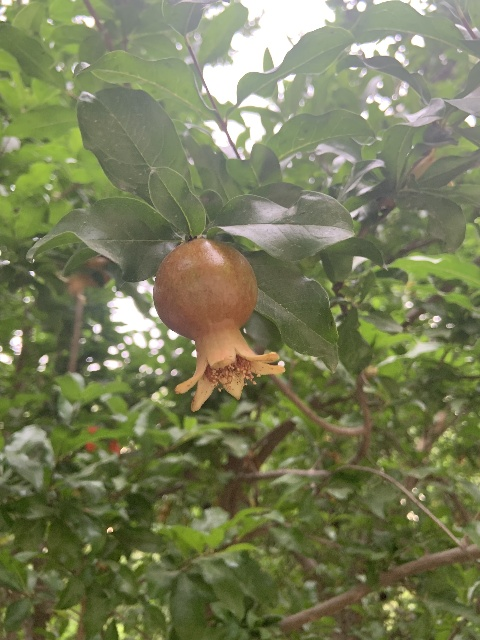early-fruit: (152, 237, 284, 413), (56, 254, 111, 302)
